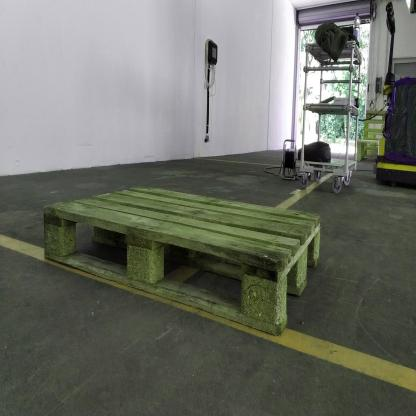BoxFace: (41, 182, 323, 339)
